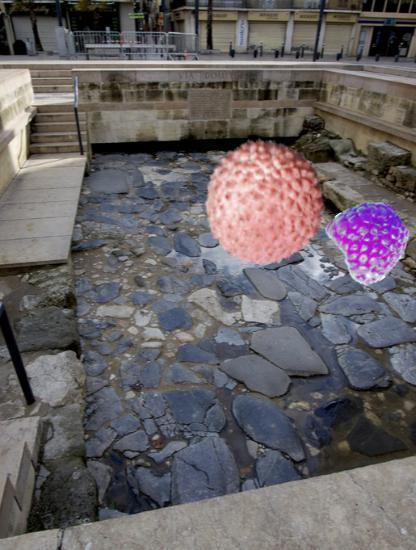Lychee: (199, 136, 330, 267)
Raspberry: (331, 200, 411, 280)
